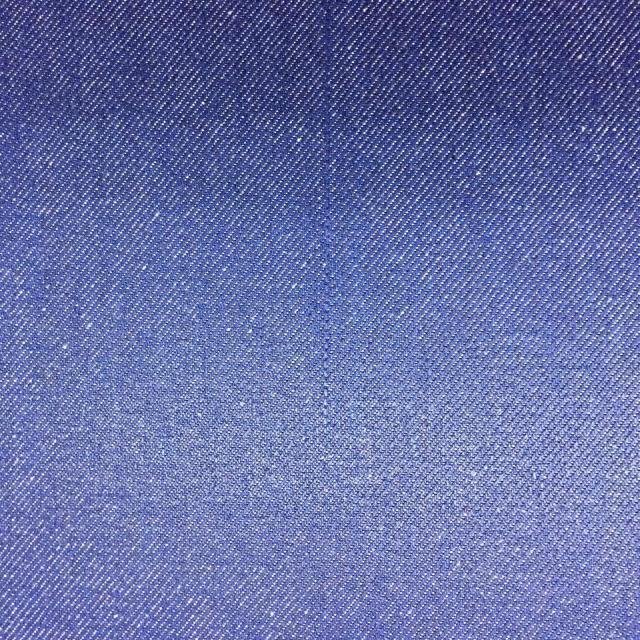Line: (320, 0, 333, 441)
